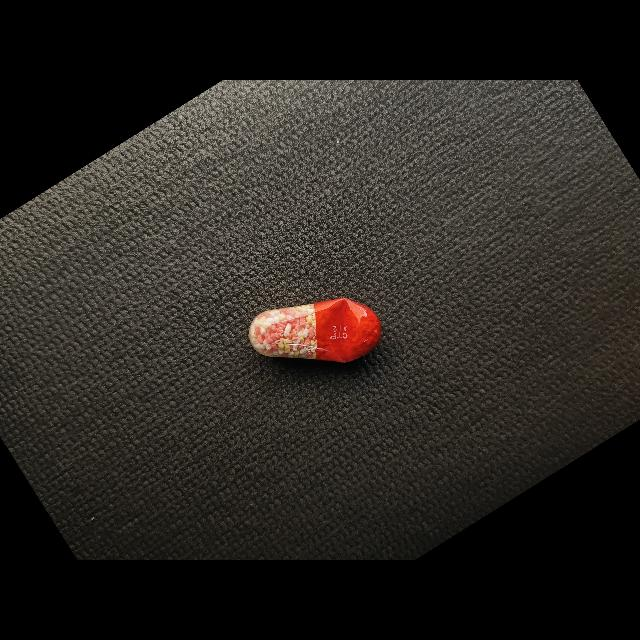Defective Capsule: (249, 298, 381, 363)
